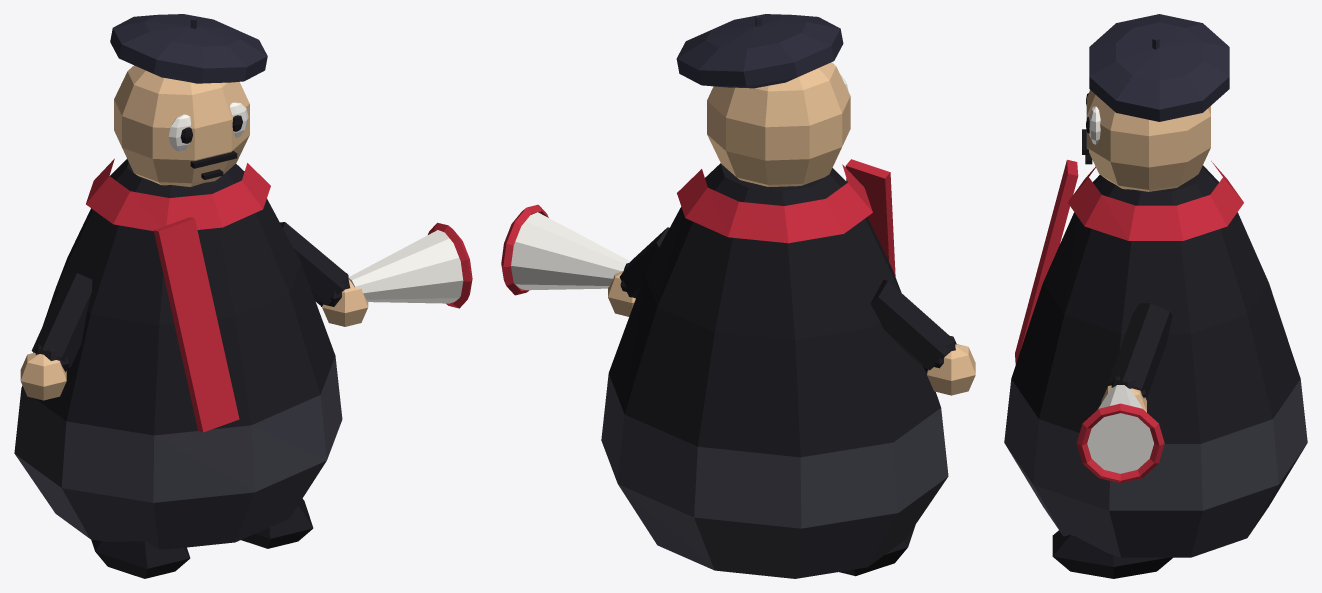
The model's file is npc_bambalina.glb.
3 renders of one model, left to right at view 1: azimuth 30°, elevation 25°; view 2: azimuth 150°, elevation 25°; view 3: azimuth 270°, elevation 25°, orthographic. The views are drawn at different scales.
Parts seen in each view (by area): view 1: body_director_black, body_director_pants, body_director_scarf, head_skin_trigo, hair_director_beret, arms_director_black, props_white, legs_black, arms_skin_trigo, props_director_scarf, face_white, face_black; view 2: body_director_black, body_director_pants, head_skin_trigo, body_director_scarf, hair_director_beret, props_white, arms_director_black, arms_skin_trigo, props_director_scarf, legs_black; view 3: body_director_black, body_director_pants, hair_director_beret, body_director_scarf, head_skin_trigo, props_white, arms_director_black, legs_black, props_director_scarf.
Part boxes in pixels (x1,y1,x2,y2): body_director_black: (21,159,335,435); body_director_pants: (14,356,342,549); body_director_scarf: (86,158,270,432); head_skin_trigo: (114,65,249,186); hair_director_beret: (110,14,267,83); arms_director_black: (31,222,350,372); props_white: (348,230,463,303); legs_black: (91,498,313,578); arms_skin_trigo: (20,279,368,400); props_director_scarf: (428,222,472,308); face_white: (168,102,248,151); face_black: (180,115,242,179); body_director_black: (609,163,940,457); body_director_pants: (601,373,948,578); head_skin_trigo: (707,62,850,186); body_director_scarf: (677,159,895,276); hair_director_beret: (676,14,843,88); props_white: (511,212,630,290); arms_director_black: (619,227,956,372); arms_skin_trigo: (608,270,975,395); props_director_scarf: (501,204,548,295); legs_black: (839,525,915,576); body_director_black: (1011,165,1300,443); body_director_pants: (1004,379,1307,557); hair_director_beret: (1089,14,1229,121); body_director_scarf: (1015,159,1243,364); head_skin_trigo: (1086,90,1210,191); props_white: (1087,385,1153,473); arms_director_black: (1108,303,1172,398); legs_black: (1052,530,1172,578); props_director_scarf: (1076,403,1164,483).
Size of the model in its own units: 1.4 by 1.6 by 0.86.
